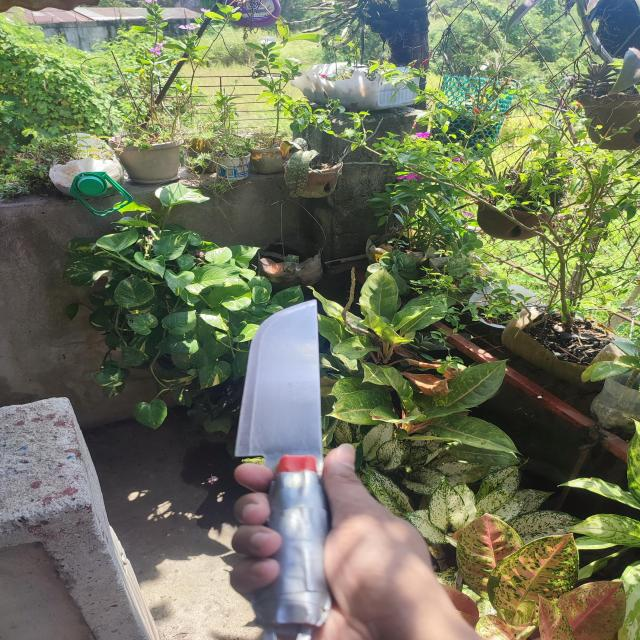knife: (234, 299, 331, 640)
